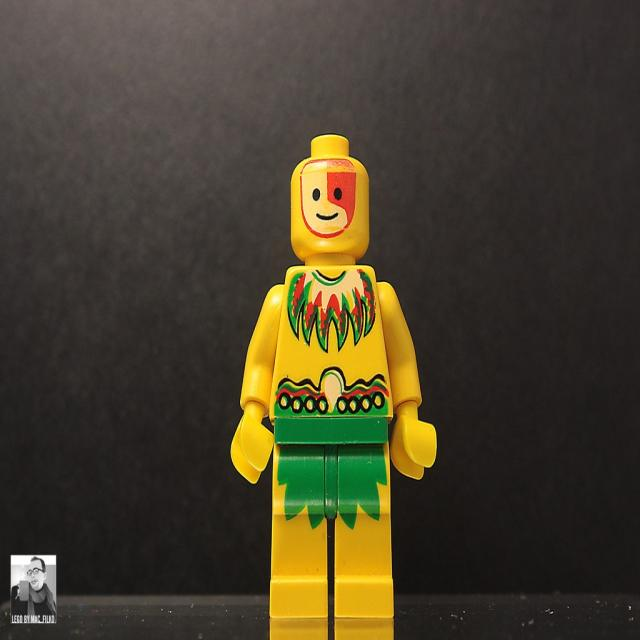Toy: (229, 141, 436, 556)
